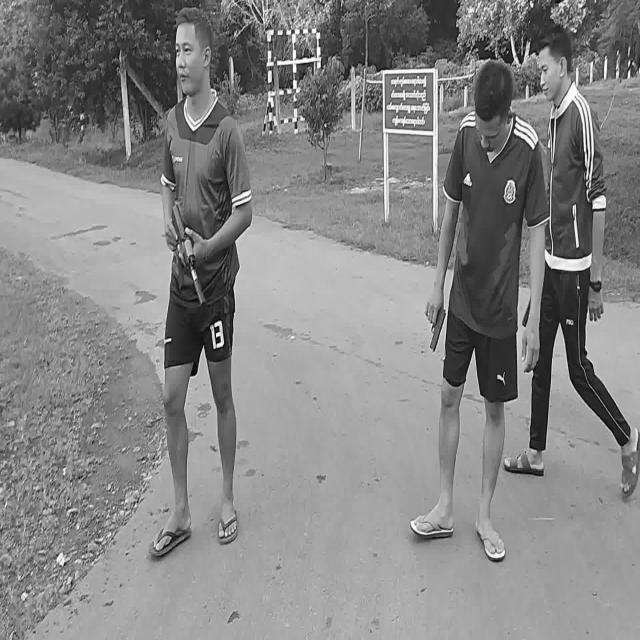gun: (173, 203, 205, 308), (430, 306, 446, 352)
